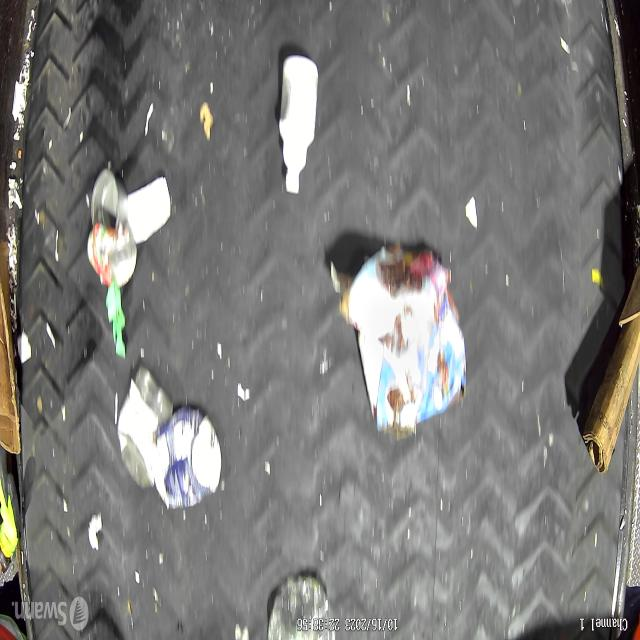can: (153, 406, 221, 509), (86, 216, 137, 287), (90, 168, 127, 228)
plastic_bottle: (267, 574, 335, 640)
